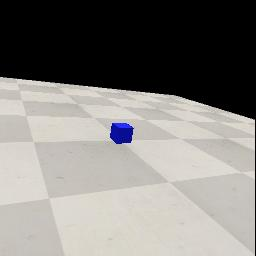box: (110, 123, 134, 144)
